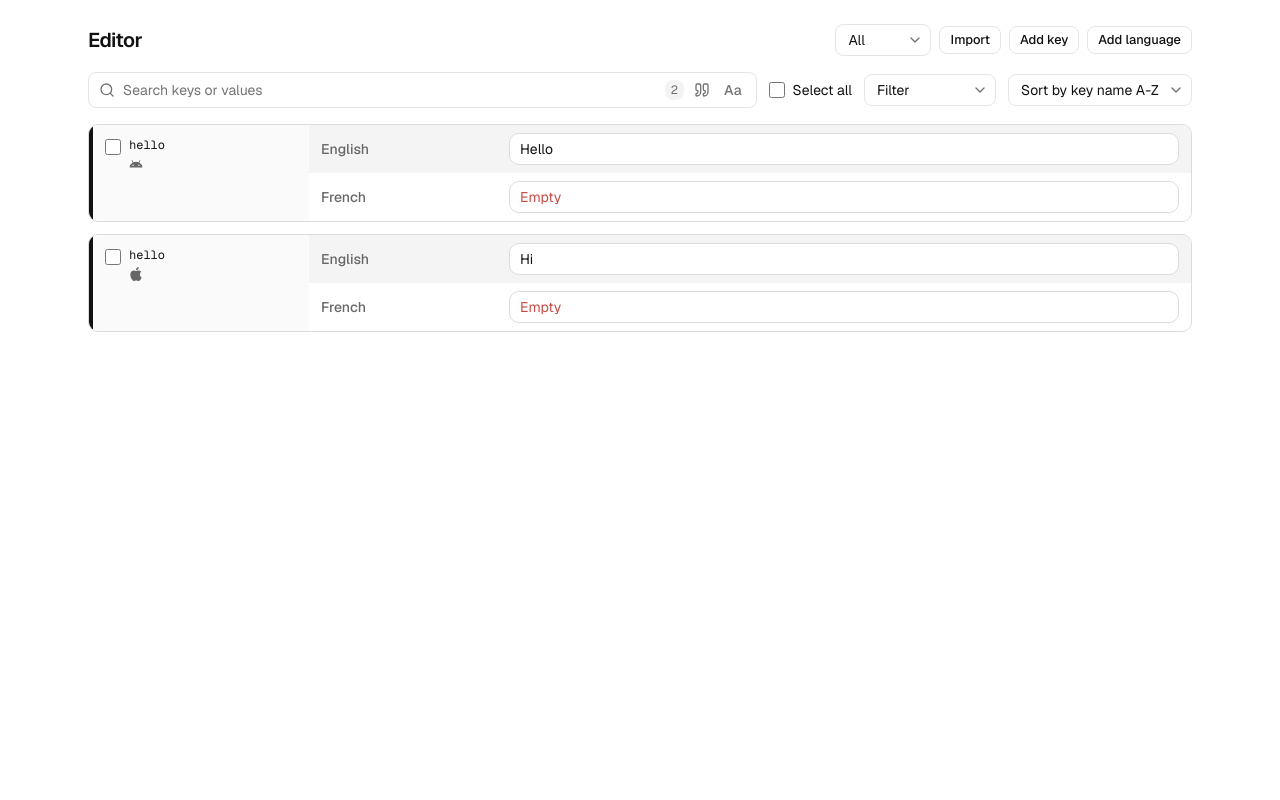
editor screen › deletes the checked keys on each platform in view
Click the checkbox labelled "Select all". click: (777, 90)
box: [769, 82, 785, 98]
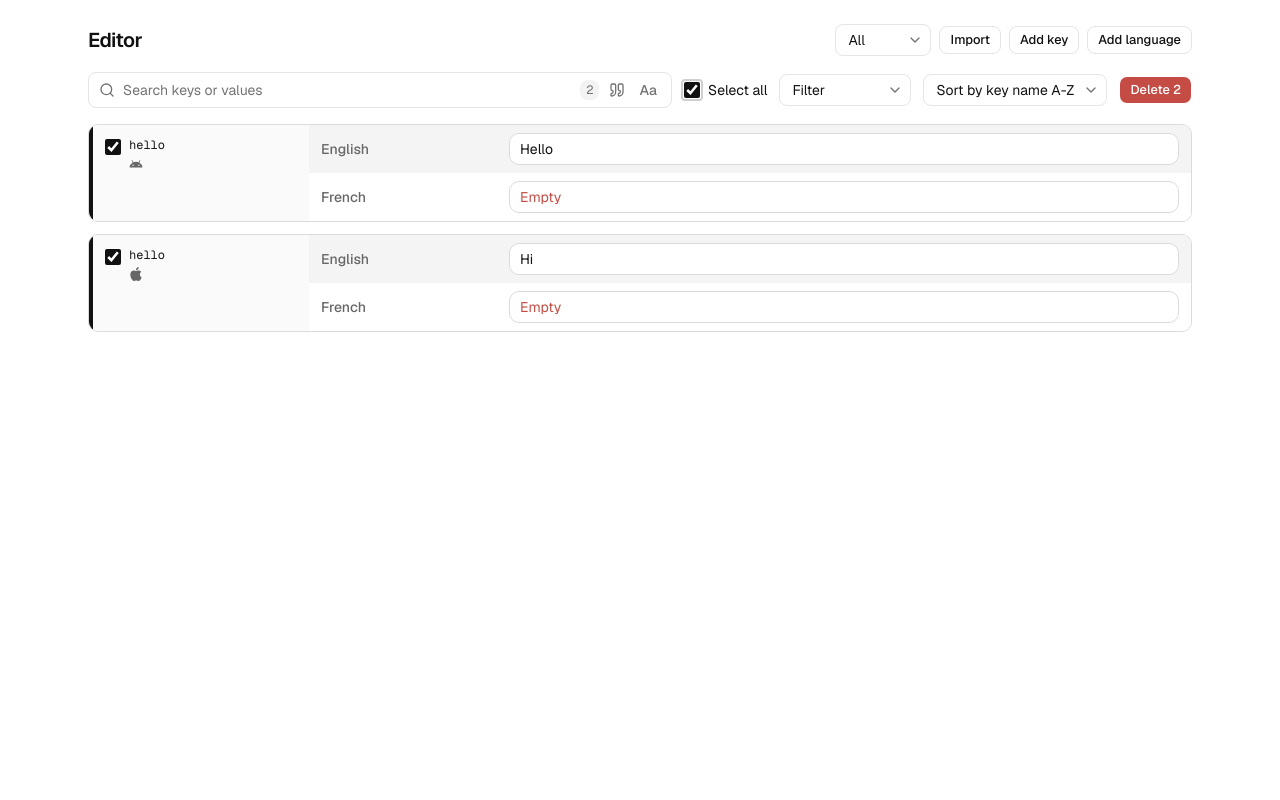
Click the button "Delete 2". click: (1156, 90)
box: [1120, 76, 1192, 104]
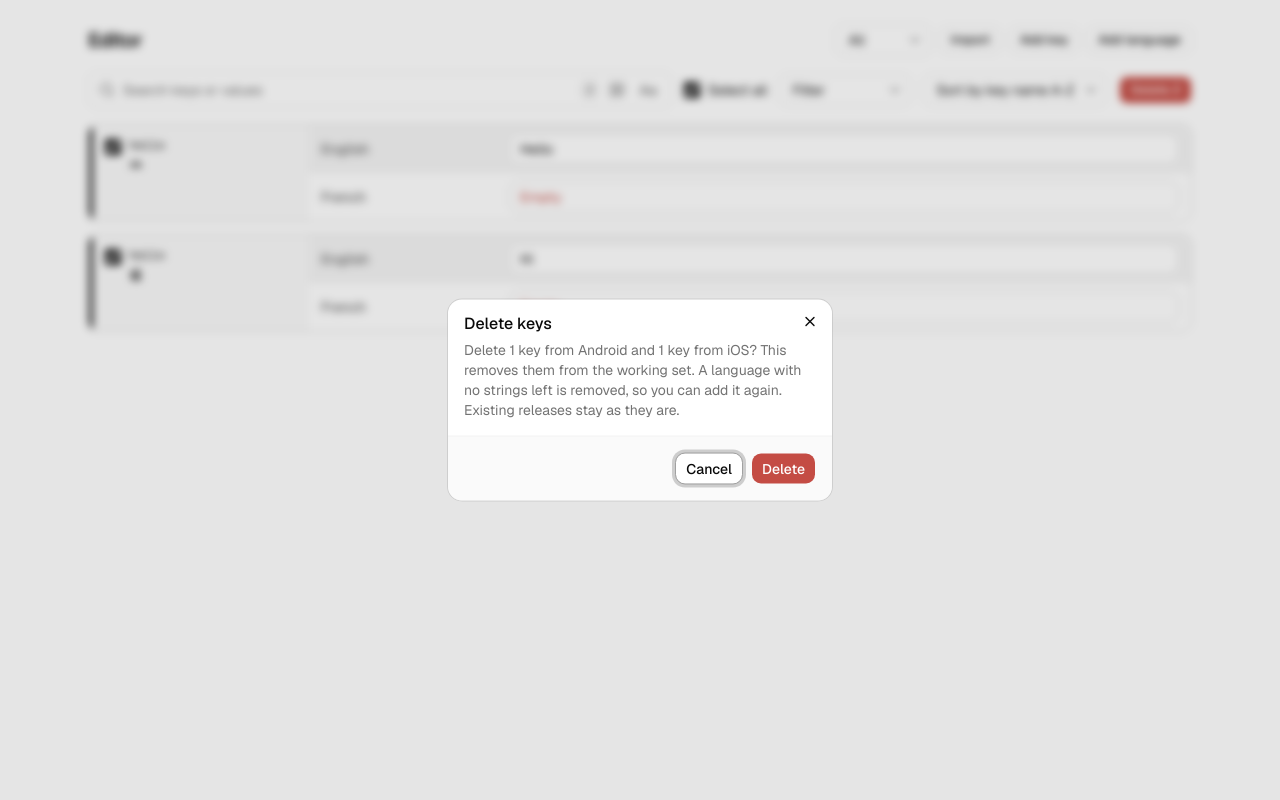
Result: the dialog "Delete keys" shows "1 key from Android and 1 key from iOS" at [464, 340, 802, 418]
Click the button "Delete". click: (783, 468)
box: [751, 452, 816, 484]
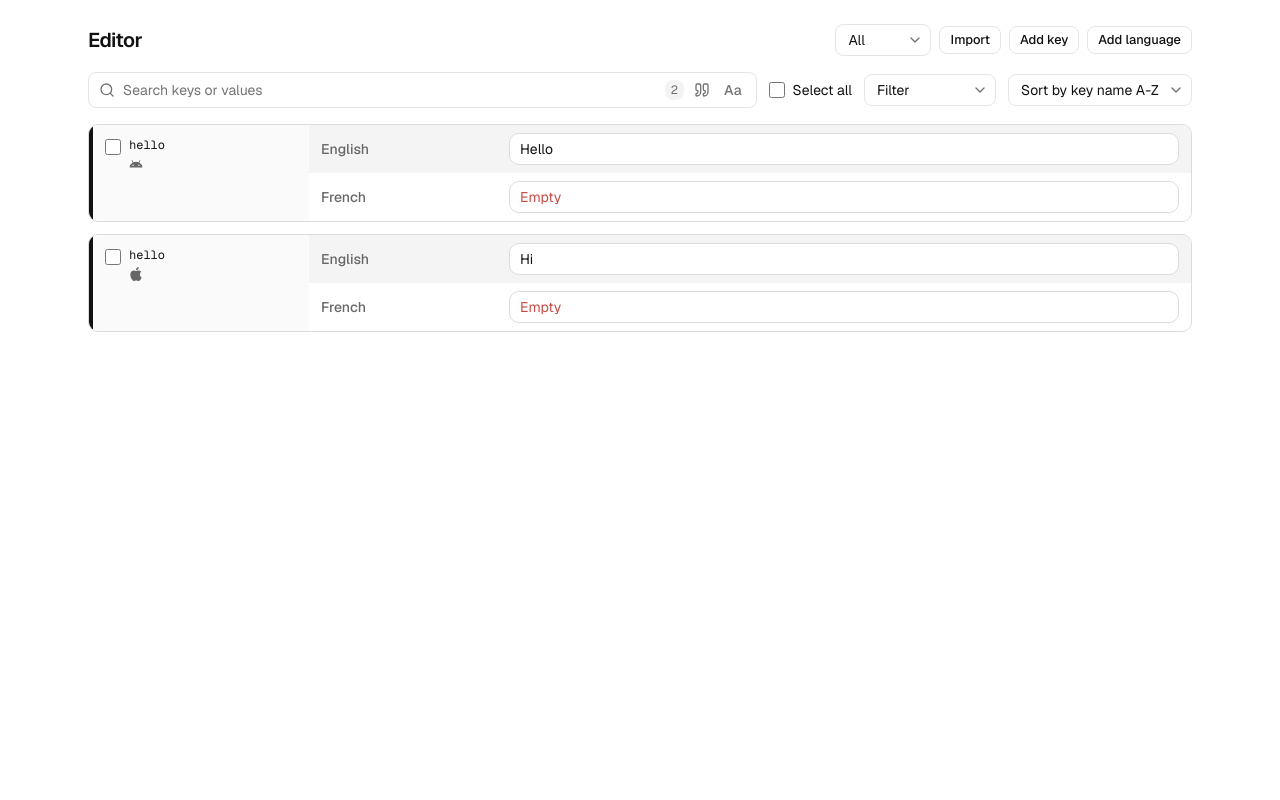
Result: the heading "Delete keys" is gone
